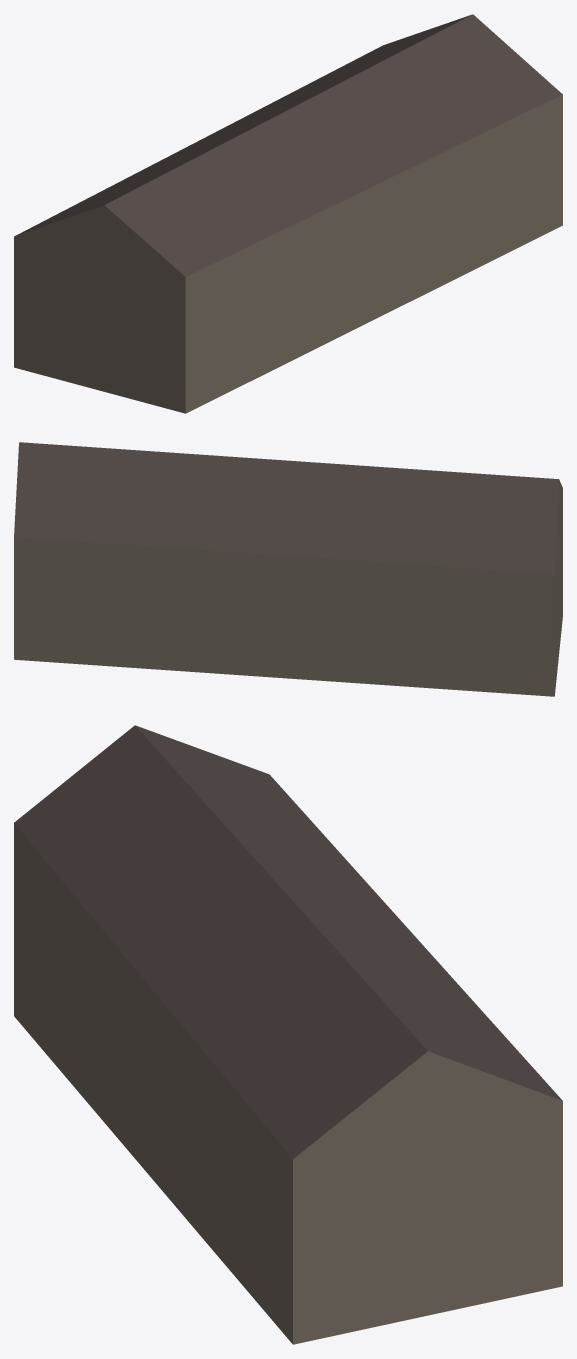
The picture shows the model from 3 angles, top to bottom: view 1: azimuth 30°, elevation 25°; view 2: azimuth 150°, elevation 25°; view 3: azimuth 270°, elevation 25°; orthographic projection. The views are drawn at different scales.
Visible parts, largest first — view 1: HP-w1516161916; view 2: HP-w1516161916; view 3: HP-w1516161916.
Part boxes in pixels (bbox=[...]): HP-w1516161916: bbox=[14, 14, 562, 413]; HP-w1516161916: bbox=[14, 442, 562, 696]; HP-w1516161916: bbox=[14, 725, 562, 1344].
Bounding box in the file's own units: 26.71 × 8.55 × 16.1.
